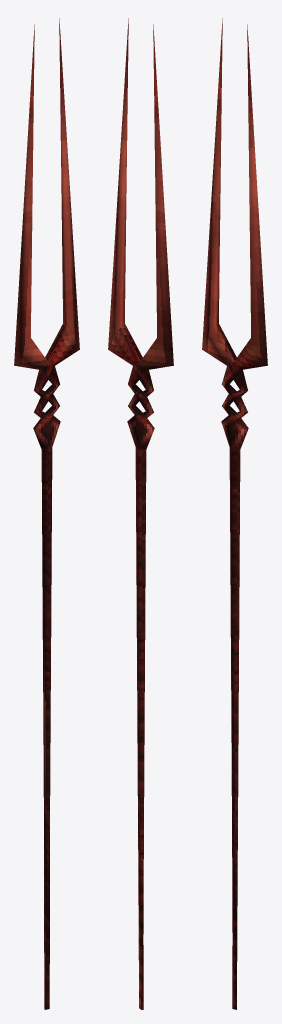
The model's file is Lanza del destino.obj.
3 views of the same model, side by side, from view 1: azimuth 30°, elevation 25°; view 2: azimuth 150°, elevation 25°; view 3: azimuth 330°, elevation 25° (orthographic).
Parts seen in each view (by area): view 1: Weapon-Lance_of_Longinus; view 2: Weapon-Lance_of_Longinus; view 3: Weapon-Lance_of_Longinus.
Part boxes in pixels (bbox=[...]): Weapon-Lance_of_Longinus: bbox=[14, 18, 79, 1009]; Weapon-Lance_of_Longinus: bbox=[108, 18, 173, 1009]; Weapon-Lance_of_Longinus: bbox=[202, 18, 267, 1009].
Bounding box in the file's own units: 2.38 × 34.26 × 0.4417.
Materials: 1 (1 with a texture image).
